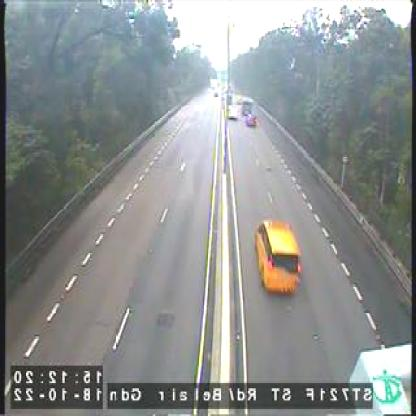Car: (255, 218, 302, 296), (244, 110, 256, 128)
Truck: (241, 95, 255, 117)
